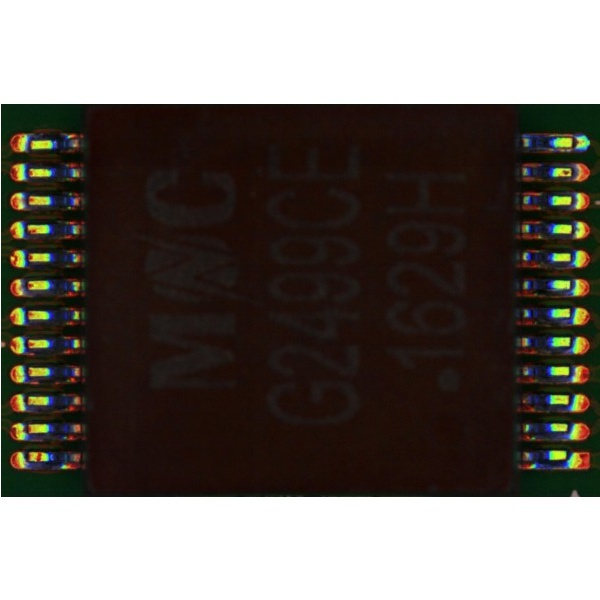Bad_qiaojiao: (538, 148, 572, 153), (542, 133, 572, 138)
